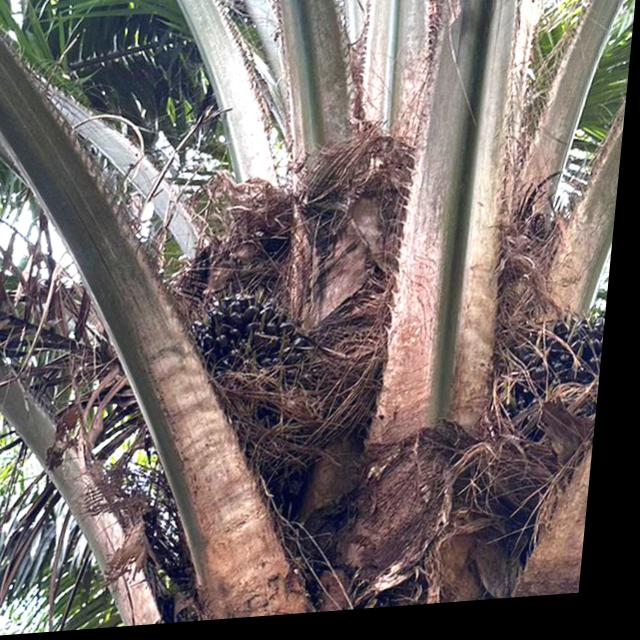ripe: (175, 263, 319, 402)
